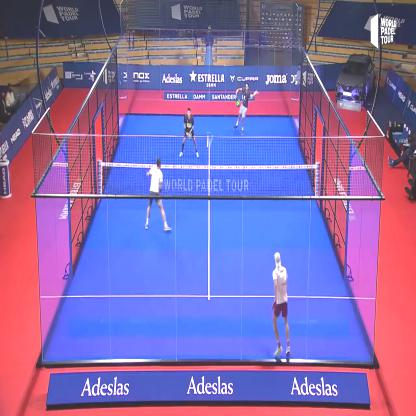ball: (207, 132, 216, 148)
